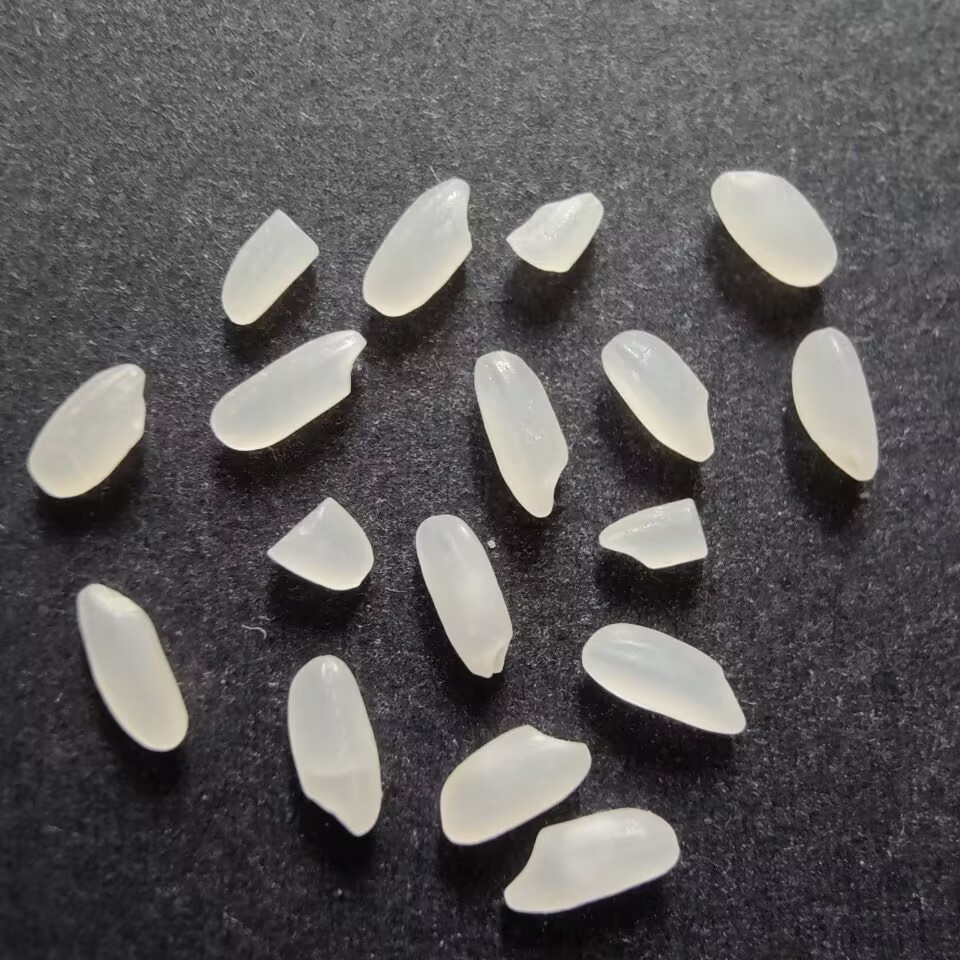broken: (219, 205, 321, 330), (262, 496, 375, 593), (592, 491, 710, 570), (504, 187, 606, 276)
rice: (68, 583, 195, 758), (576, 619, 754, 741), (499, 803, 685, 919), (209, 323, 368, 456), (437, 719, 594, 849), (284, 649, 384, 842), (468, 347, 575, 523), (25, 358, 153, 500), (413, 510, 519, 680), (704, 167, 842, 291), (599, 329, 720, 467), (787, 324, 886, 488), (362, 176, 475, 318)
